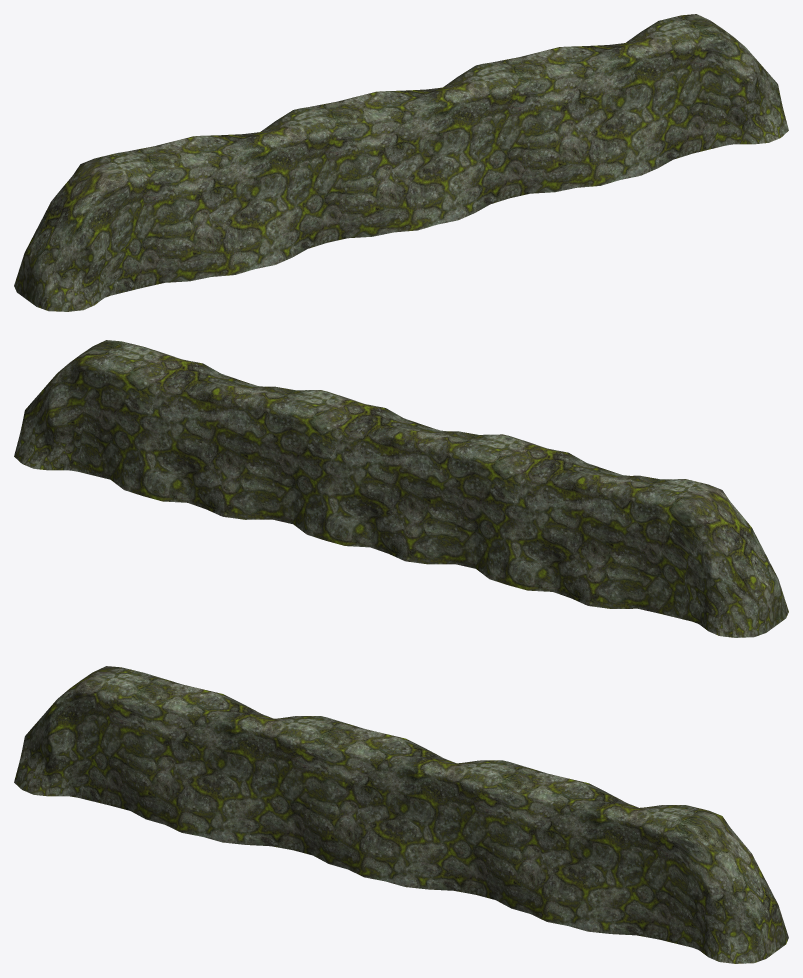
The model's file is cover_stonewall.glb.
3 views of the same model, one above another, from view 1: azimuth 30°, elevation 25°; view 2: azimuth 150°, elevation 25°; view 3: azimuth 330°, elevation 25° (orthographic).
Visible parts, largest first — view 1: cover_stonewall; view 2: cover_stonewall; view 3: cover_stonewall.
Part boxes in pixels (box(x1,y1,x2,y2)): cover_stonewall: box(14, 14, 788, 311); cover_stonewall: box(14, 340, 788, 637); cover_stonewall: box(14, 666, 788, 963).
Size of the model in its own units: 10.26 by 1.5 by 1.28.
1 material, 1 textured.
